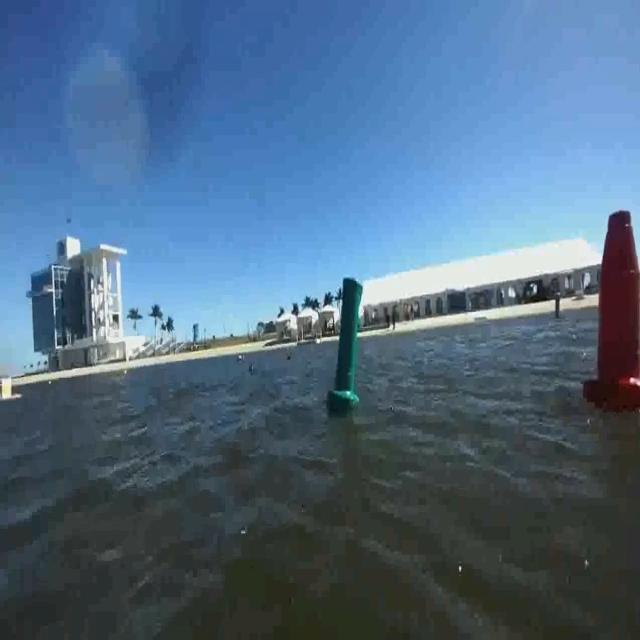green-column-buoy: (332, 274, 365, 410)
red-column-buoy: (586, 208, 640, 414)
